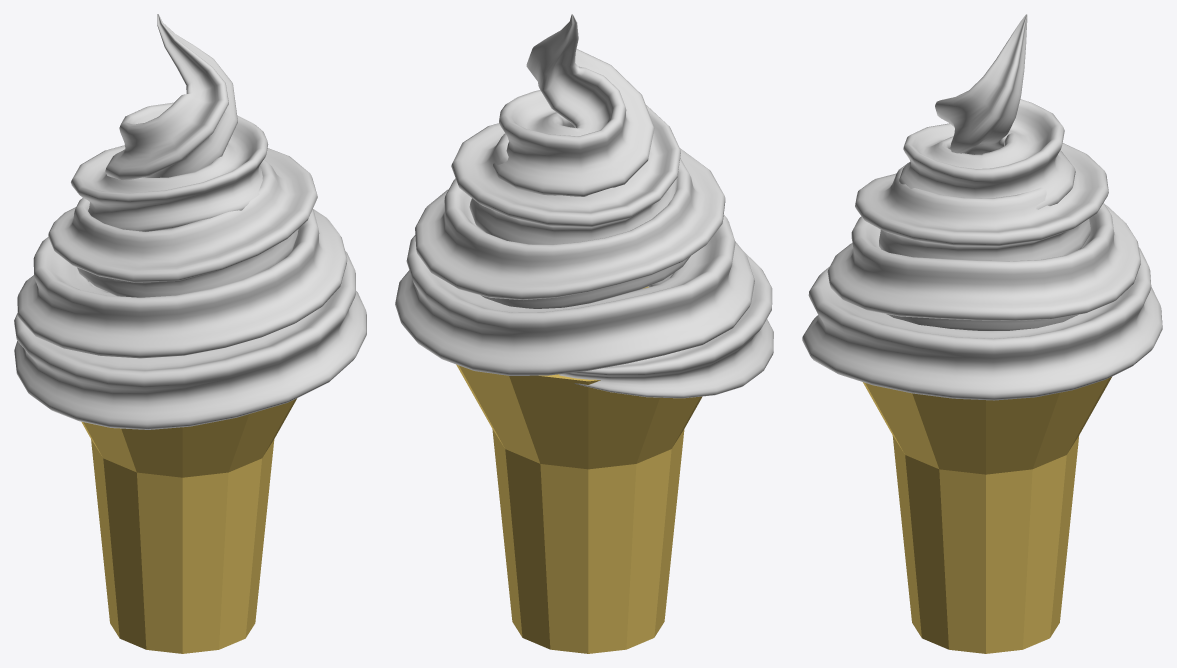
The model's file is Ice_cream_2.fbx.
3 views of the same model, side by side, from view 1: azimuth 30°, elevation 25°; view 2: azimuth 150°, elevation 25°; view 3: azimuth 270°, elevation 25° (orthographic). The views are drawn at different scales.
Visible parts, largest first — view 1: Ice_cream_1.006, Ice_cream_2; view 2: Ice_cream_1.006, Ice_cream_2; view 3: Ice_cream_1.006, Ice_cream_2.
Part boxes in pixels (x1,y1,x2,y2): Ice_cream_1.006: (14,14,366,429); Ice_cream_2: (81,398,296,653); Ice_cream_1.006: (395,14,773,398); Ice_cream_2: (456,286,702,653); Ice_cream_1.006: (802,14,1162,400); Ice_cream_2: (863,377,1111,653).
Size of the model in its own units: 21.14 by 38.18 by 20.57.
